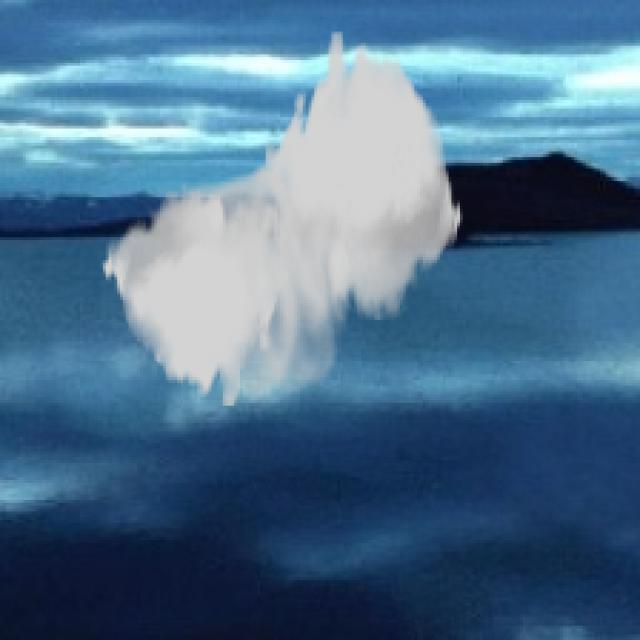Smoke: (100, 31, 463, 408)
